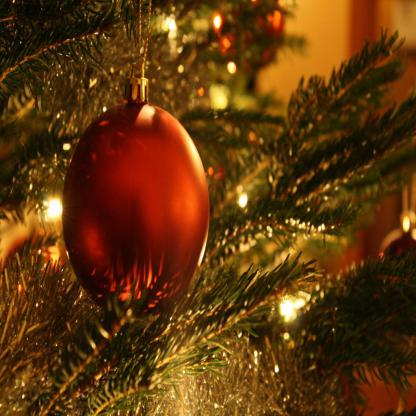Ball: (62, 99, 210, 310), (214, 0, 282, 71)
